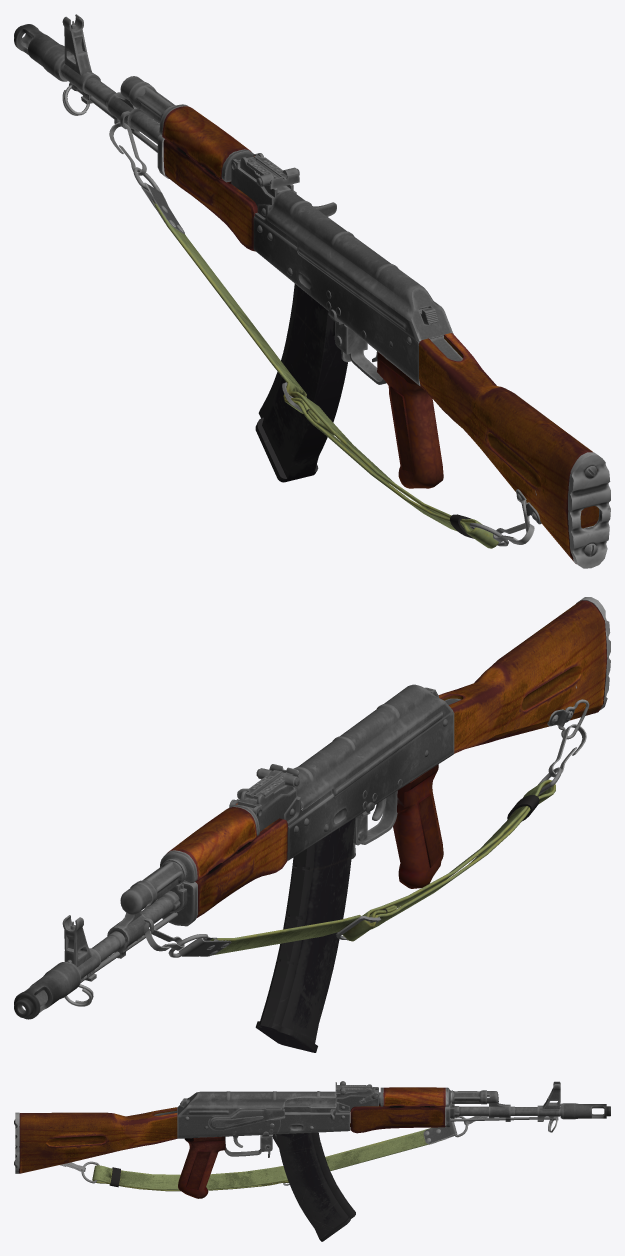
File: akm__free_lowpoly.glb
3 renders of one model, top to bottom at view 1: azimuth 30°, elevation 25°; view 2: azimuth 150°, elevation 25°; view 3: azimuth 270°, elevation 25°, orthographic. The views are drawn at different scales.
Parts seen in each view (by area): view 1: AK, mag, Bend; view 2: AK, mag, Bend; view 3: AK, Bend, mag, bolt.
Part boxes in pixels (x1,y1,x2,y2): AK: (14,14,610,568); mag: (255,283,347,482); Bend: (109,122,534,548); AK: (14,597,610,1019); mag: (255,818,355,1052); Bend: (145,724,586,957); AK: (14,1081,610,1198); Bend: (60,1116,488,1191); mag: (272,1132,355,1241); bolt: (282,1094,336,1120).
Size of the model in its own units: 1.28 by 3.84 by 13.38.
1 material, 1 textured.
